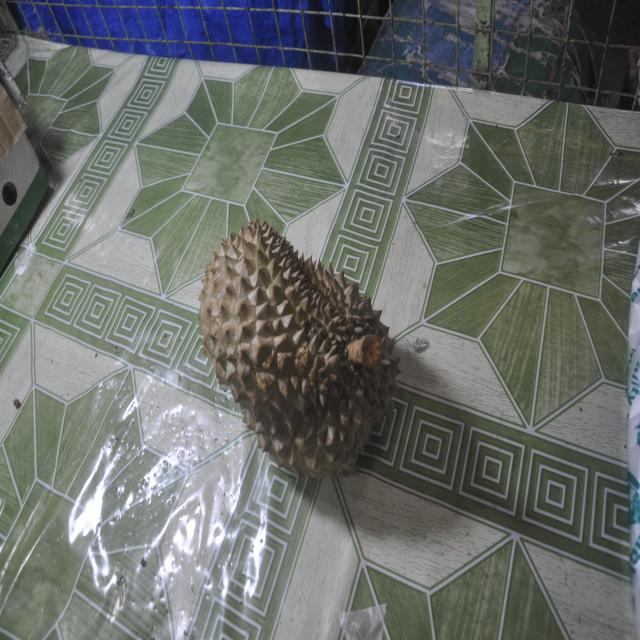mature: (181, 183, 416, 502)
